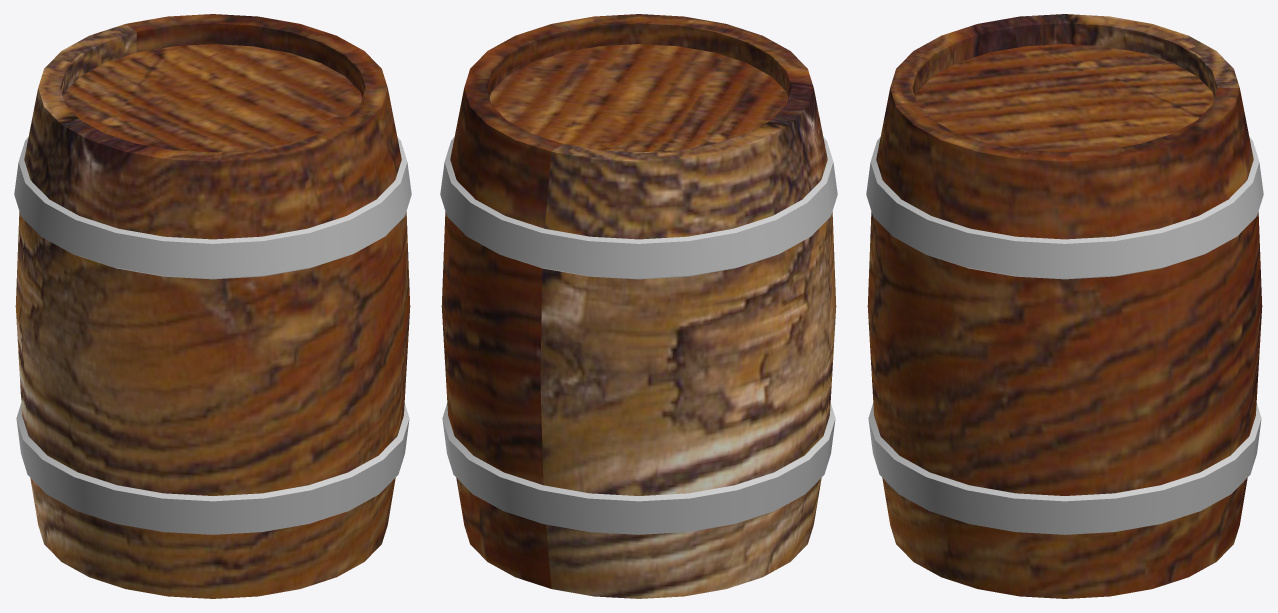
File: Tonneau3.FBX
3 views of the same model, side by side, from view 1: azimuth 30°, elevation 25°; view 2: azimuth 150°, elevation 25°; view 3: azimuth 270°, elevation 25° (orthographic).
Parts seen in each view (by area): view 1: Barrel; view 2: Barrel; view 3: Barrel.
Boxes of the visible parts, bbox=[...] form: Barrel: bbox=[14, 14, 411, 598]; Barrel: bbox=[440, 14, 837, 598]; Barrel: bbox=[866, 14, 1263, 598].
Bounding box in the file's own units: 1.64 × 1.99 × 1.64.
